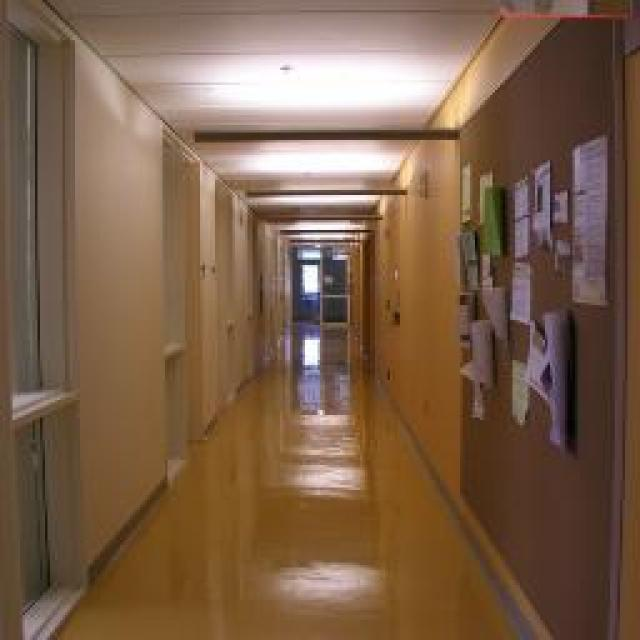2001: (2, 2, 72, 422), (2, 385, 88, 640)
board occluded: (452, 15, 625, 632)
ceiling beam: (45, 2, 508, 242)
door bars: (352, 222, 375, 365), (288, 242, 322, 330), (322, 242, 350, 330)
floor -X: (58, 332, 525, 640)
paper cup with straws: (570, 132, 608, 305), (522, 310, 565, 452), (455, 315, 495, 420), (525, 158, 552, 255), (475, 165, 502, 258), (480, 280, 508, 340), (510, 175, 530, 255), (508, 260, 532, 322), (510, 355, 530, 422), (458, 158, 475, 220)
wall clock: (348, 2, 640, 638), (75, 38, 165, 580), (165, 130, 285, 475)
